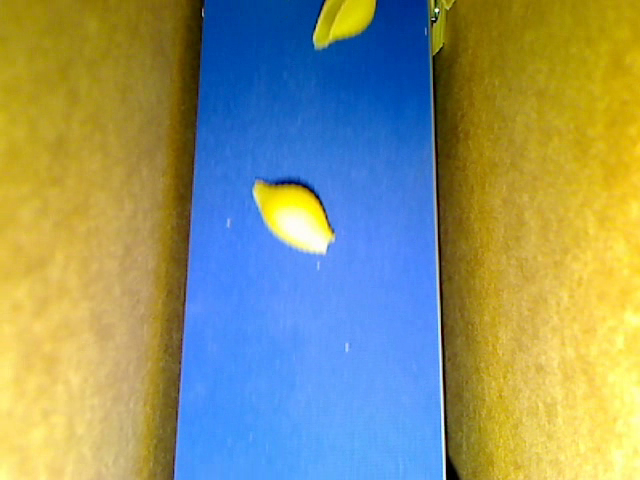penne: (430, 1, 447, 57), (439, 1, 457, 14)
shell: (249, 173, 339, 259), (312, 1, 377, 54)
